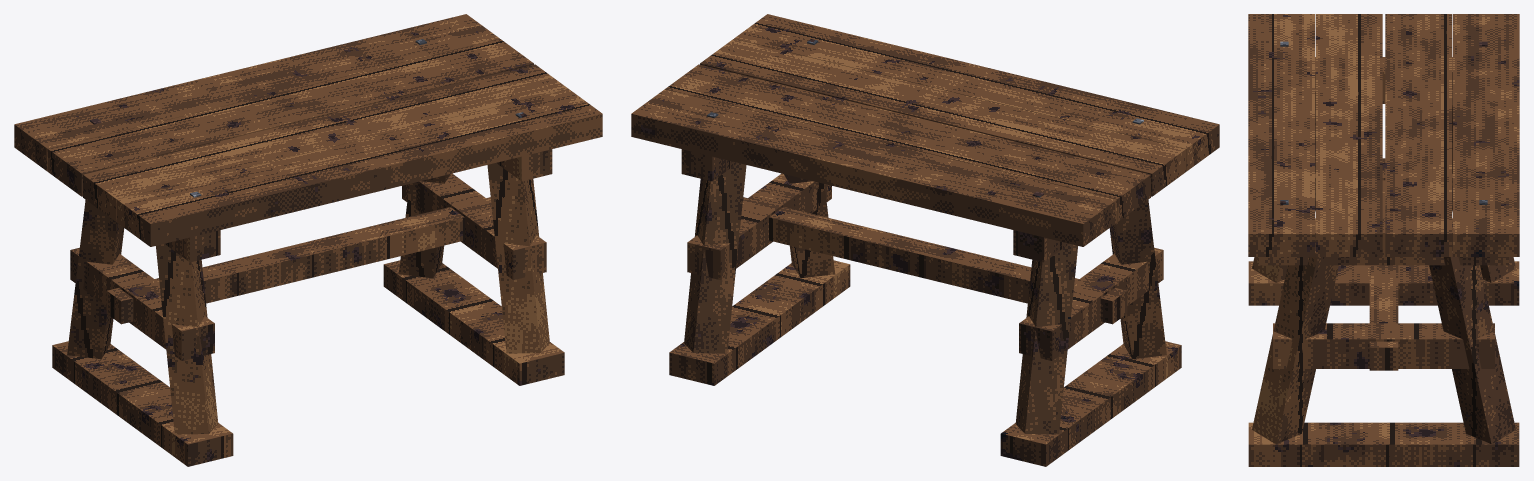
File: SM_Prop_WoodenTable_01.glb
The picture shows the model from 3 angles, left to right: view 1: azimuth 30°, elevation 25°; view 2: azimuth 150°, elevation 25°; view 3: azimuth 270°, elevation 25°; orthographic projection.
Parts seen in each view (by area): view 1: wood_top_3, wood_top_1, wood_top_2, wood_top_0, wood_stretcher, wood_foot_r, wood_foot_l, wood_leg_l_1, wood_leg_r_1, wood_brace_l, wood_brace_r, wood_leg_l_-1 (+3 smaller); view 2: wood_top_0, wood_top_2, wood_top_1, wood_top_3, wood_stretcher, wood_foot_r, wood_foot_l, wood_leg_l_-1, wood_leg_r_-1, wood_brace_l, wood_brace_r, wood_leg_l_1 (+3 smaller); view 3: wood_top_1, wood_top_2, wood_top_0, wood_top_3, wood_foot_r, wood_leg_r_-1, wood_leg_r_1, wood_brace_r, wood_foot_l, wood_stretcher, wood_crossbar_r, wood_leg_l_-1 (+1 smaller).
Boxes of the visible parts, bbox=[...] form: wood_top_3: bbox=[117, 89, 602, 246]; wood_top_1: bbox=[48, 39, 533, 196]; wood_top_2: bbox=[83, 64, 568, 222]; wood_top_0: bbox=[14, 14, 499, 171]; wood_stretcher: bbox=[106, 197, 490, 324]; wood_foot_r: bbox=[383, 260, 564, 385]; wood_foot_l: bbox=[52, 341, 233, 466]; wood_leg_l_1: bbox=[156, 243, 218, 434]; wood_leg_r_1: bbox=[487, 162, 549, 353]; wood_brace_l: bbox=[70, 247, 214, 360]; wood_brace_r: bbox=[402, 173, 546, 279]; wood_leg_l_-1: bbox=[67, 200, 124, 359]; wood_top_0: bbox=[631, 89, 1116, 246]; wood_top_2: bbox=[700, 39, 1185, 196]; wood_top_1: bbox=[665, 64, 1150, 222]; wood_top_3: bbox=[734, 14, 1219, 171]; wood_stretcher: bbox=[743, 197, 1127, 324]; wood_foot_r: bbox=[669, 260, 850, 385]; wood_foot_l: bbox=[1000, 341, 1181, 466]; wood_leg_l_-1: bbox=[1015, 243, 1077, 434]; wood_leg_r_-1: bbox=[684, 162, 746, 353]; wood_brace_l: bbox=[1019, 247, 1163, 360]; wood_brace_r: bbox=[687, 173, 831, 279]; wood_leg_l_1: bbox=[1109, 200, 1166, 359]; wood_top_1: bbox=[1385, 14, 1452, 256]; wood_top_2: bbox=[1315, 14, 1382, 256]; wood_top_0: bbox=[1453, 14, 1519, 256]; wood_top_3: bbox=[1248, 14, 1314, 256]; wood_foot_r: bbox=[1248, 422, 1519, 466]; wood_leg_r_-1: bbox=[1429, 251, 1515, 443]; wood_leg_r_1: bbox=[1252, 251, 1338, 443]; wood_brace_r: bbox=[1273, 323, 1494, 368]; wood_foot_l: bbox=[1248, 261, 1519, 305]; wood_stretcher: bbox=[1369, 158, 1398, 370]; wood_crossbar_r: bbox=[1259, 218, 1508, 265]; wood_leg_l_-1: bbox=[1452, 89, 1515, 282].
Size of the model in its own units: 1.5 by 0.804 by 0.783.
1 material, 1 textured.
